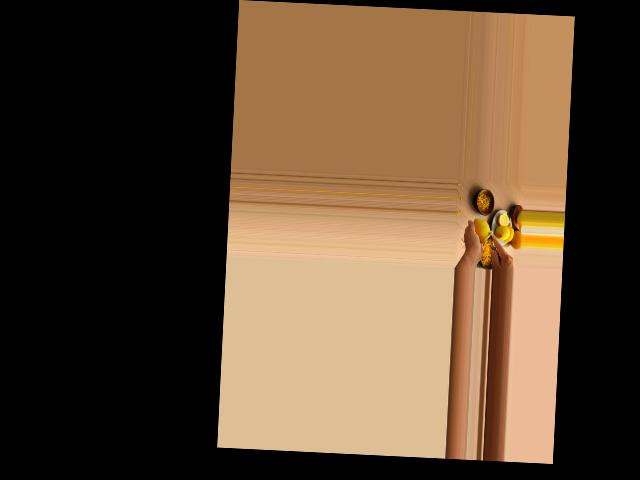lemon: (468, 219, 492, 244)
